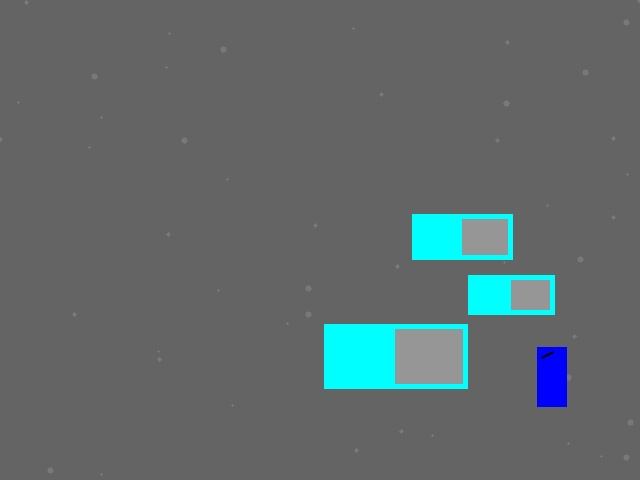motorcycle: (537, 347, 566, 406)
truck: (324, 324, 467, 388), (412, 214, 512, 259), (468, 275, 554, 314)
